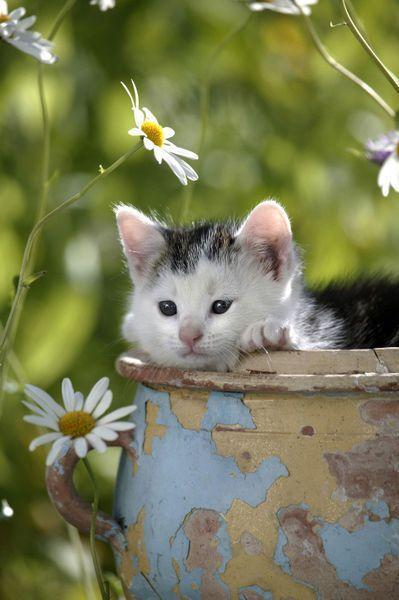kedo: (117, 202, 399, 367)
